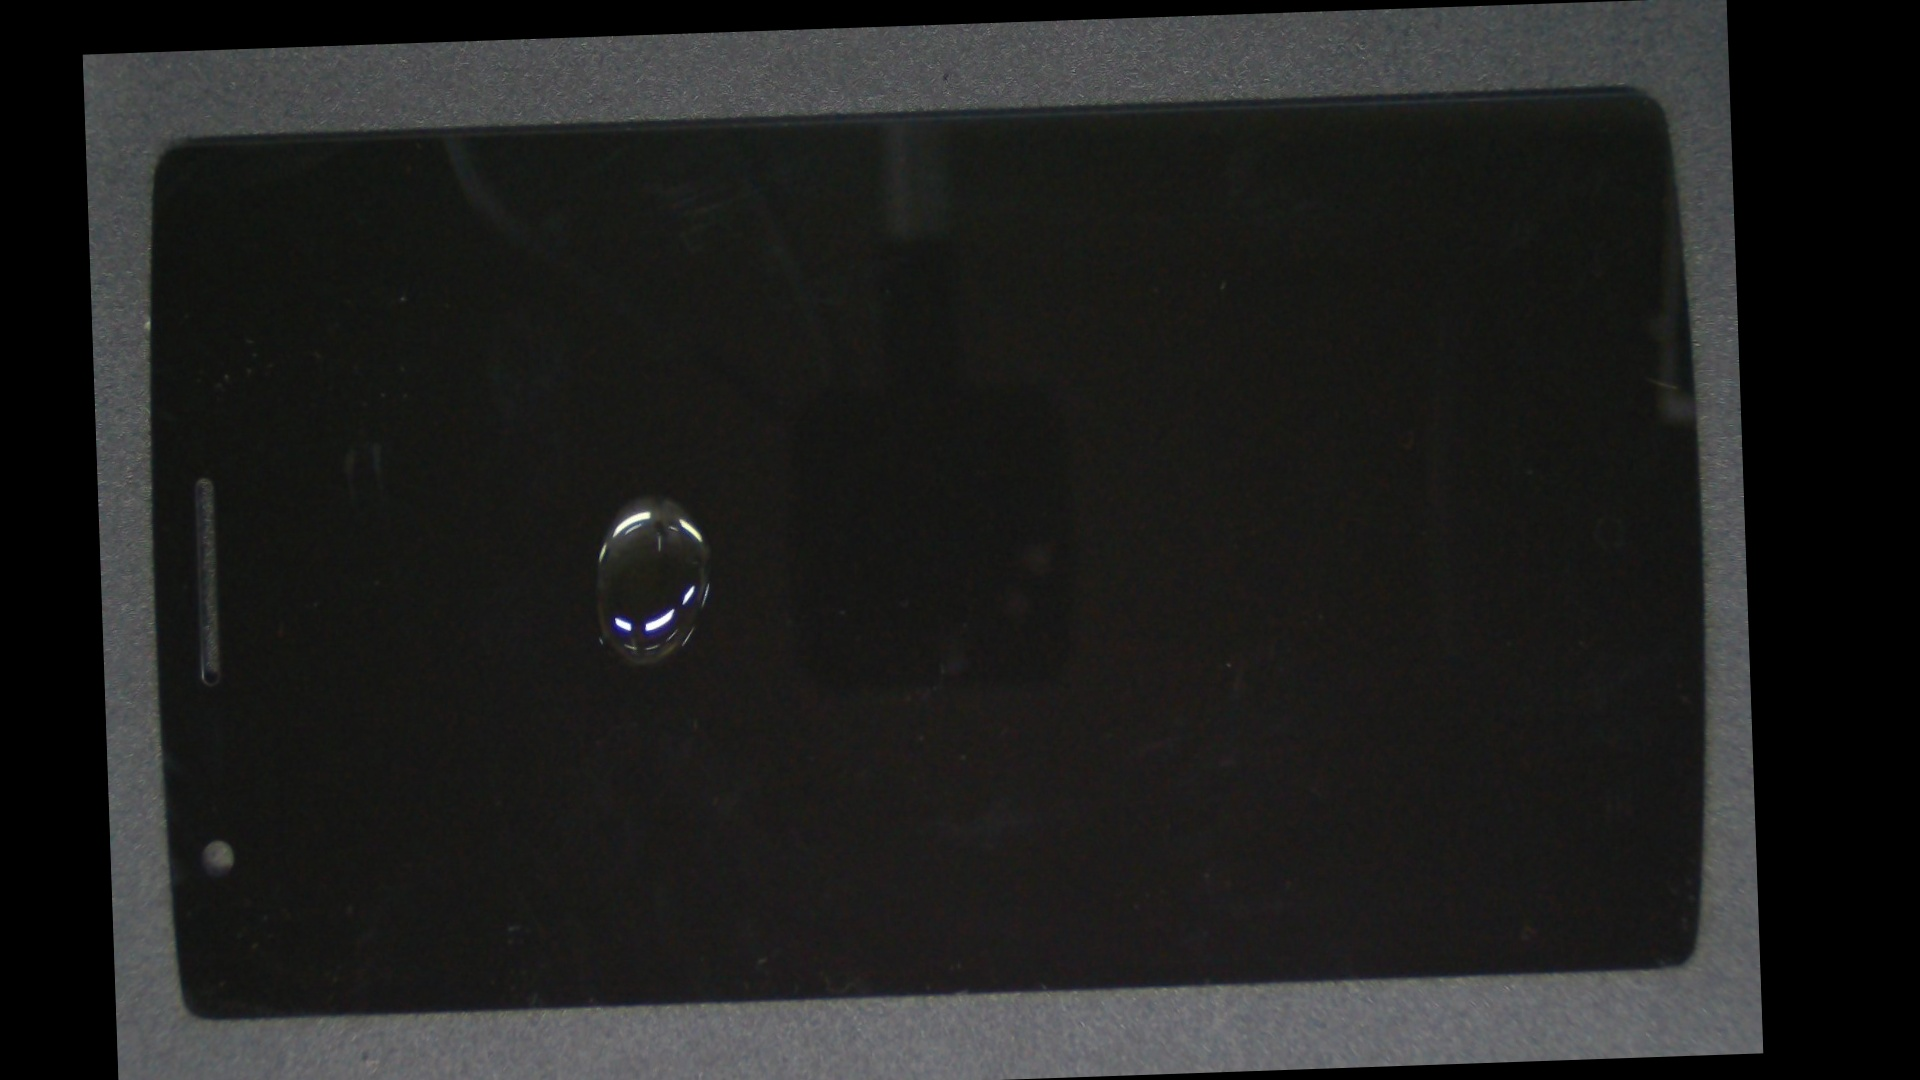oil: (368, 256, 936, 737)
